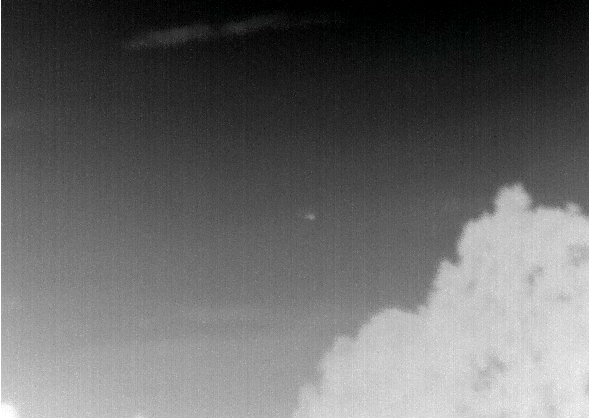dim target: (304, 212, 317, 221)
